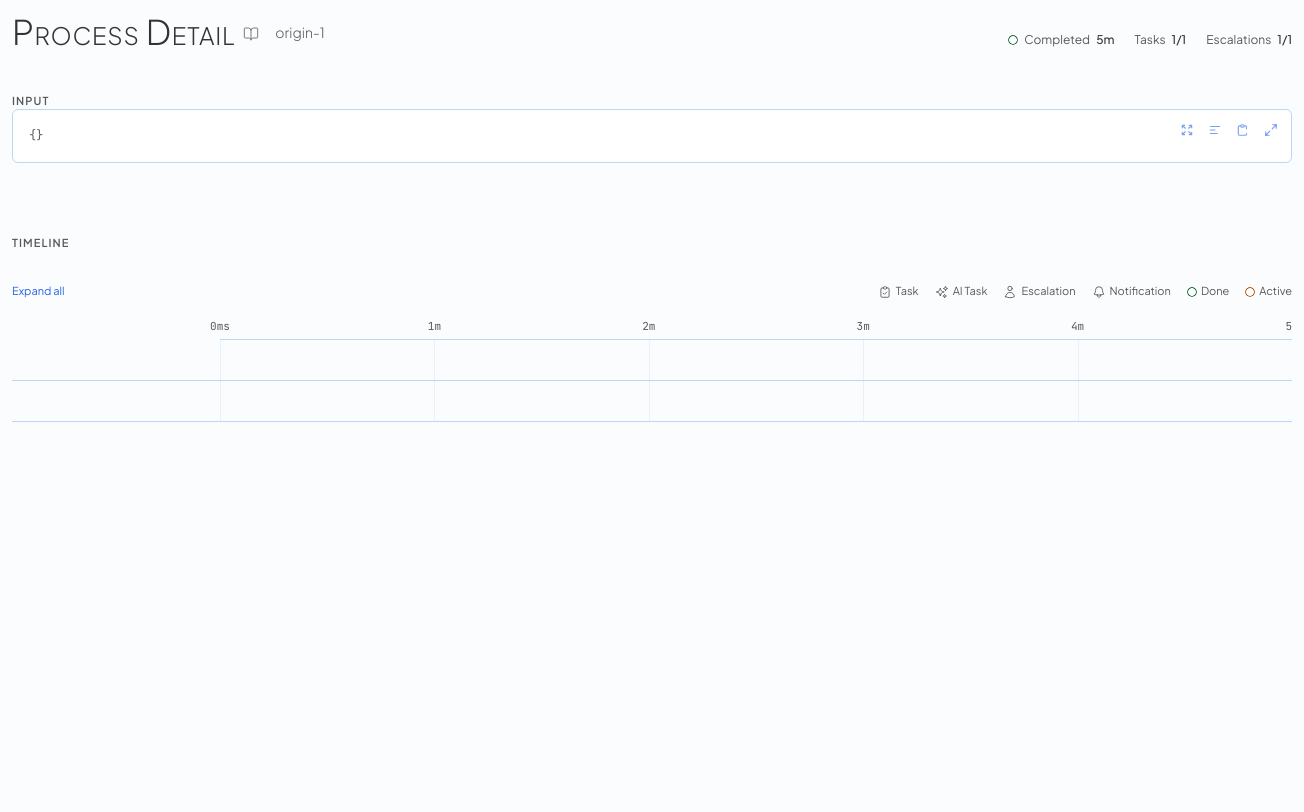
Test: ProcessDetailPage › shows escalation detail panel with claim info when expanded
Click the button "Expand all": (38, 292) top-left (12, 283), bottom-right (65, 300)
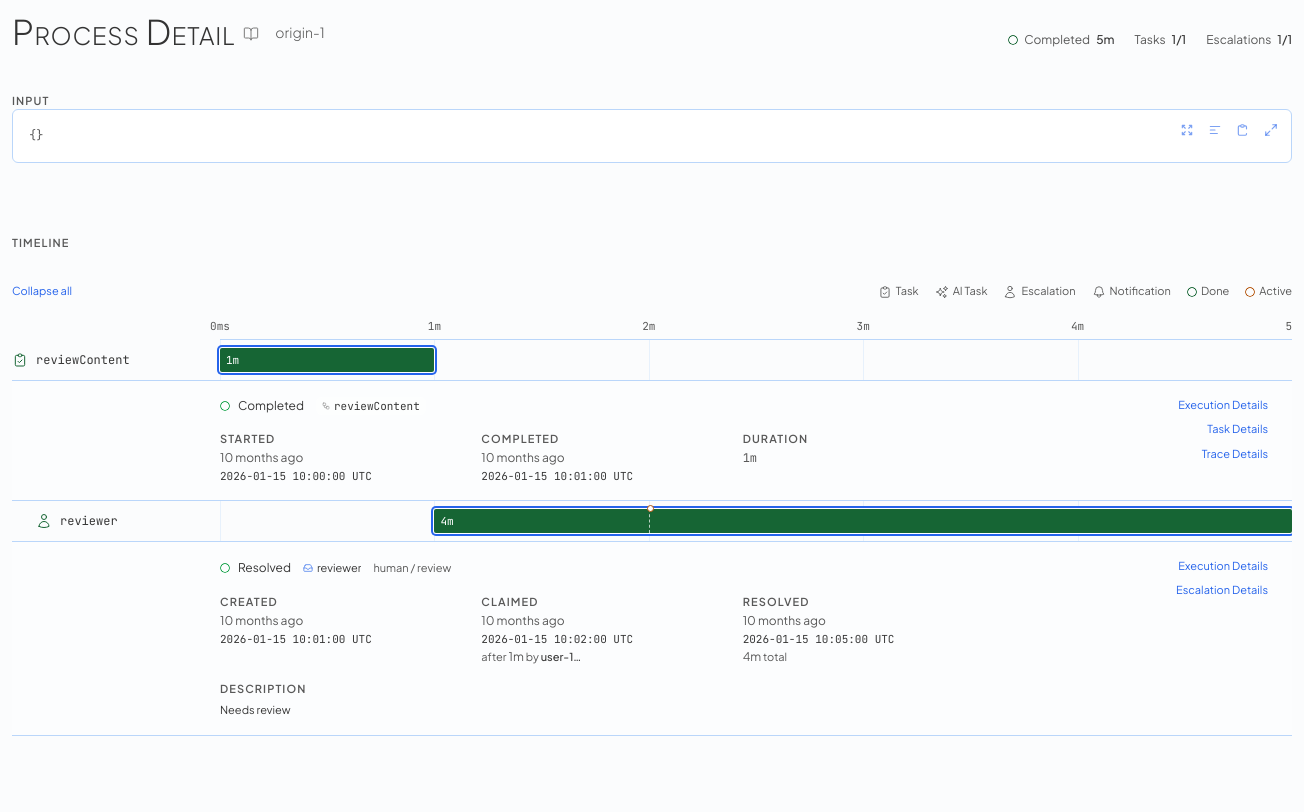
Result: the link "Escalation Details" is shown at top-left (1176, 582), bottom-right (1268, 599)
